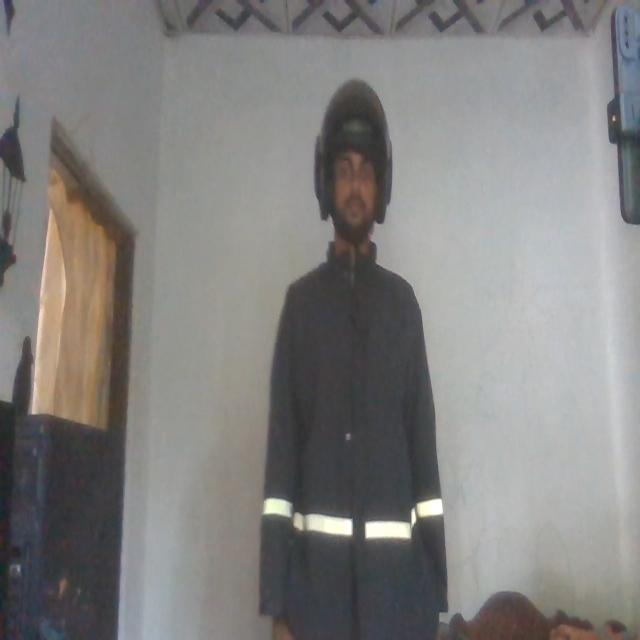Helmet_Wearer: (308, 80, 399, 255)
Jacket_Wearer: (260, 256, 444, 640)
Person: (258, 74, 450, 640)
